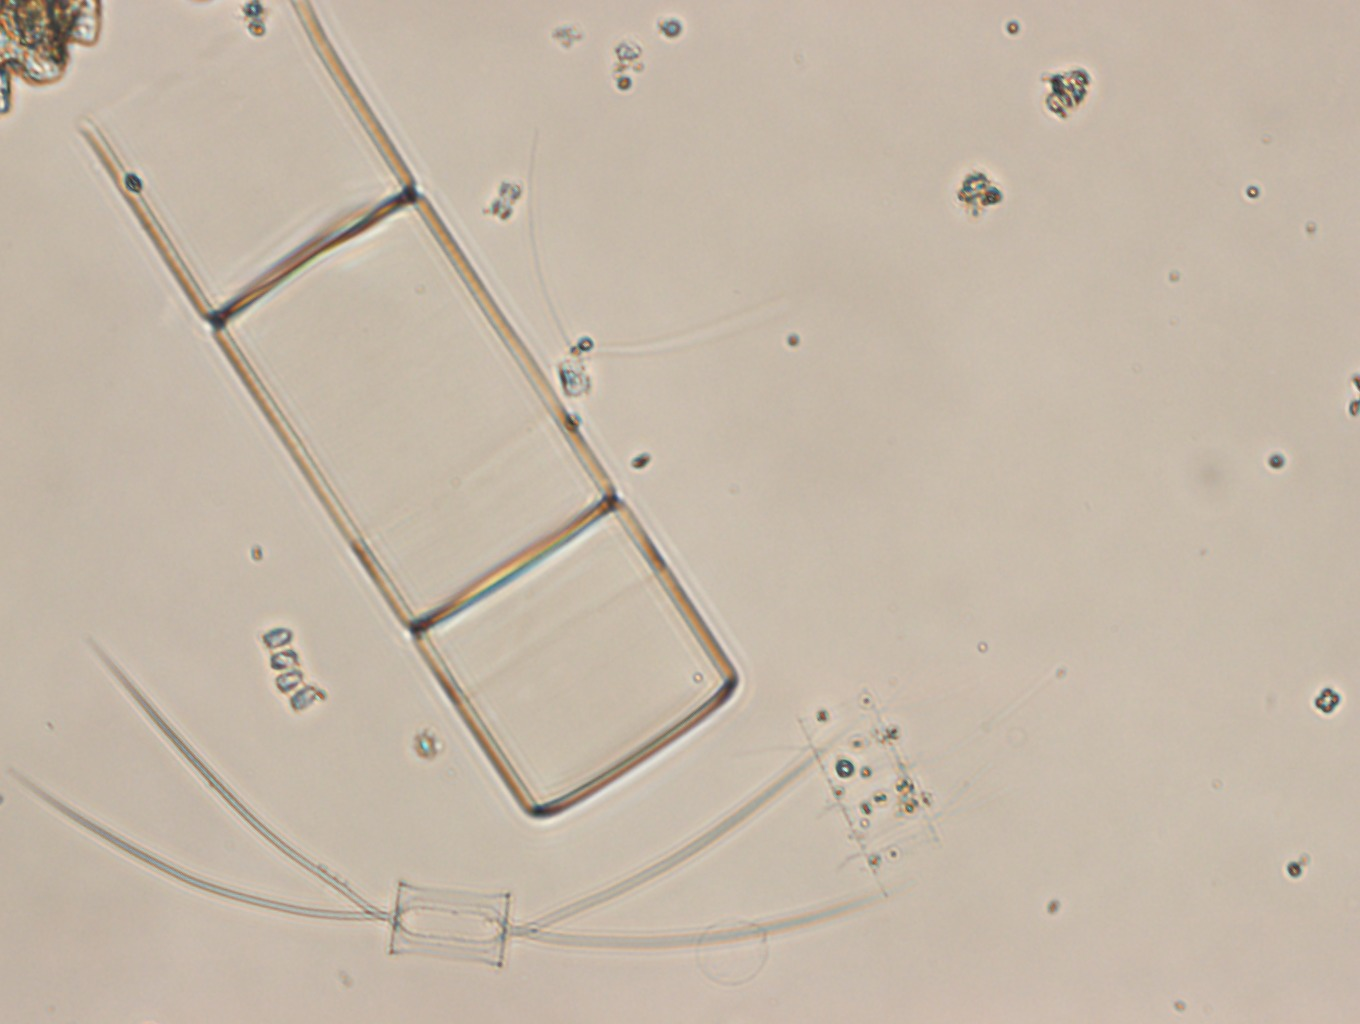chaetoceros: (8, 631, 886, 972), (529, 130, 819, 406), (754, 678, 1018, 885)
guinardia flaccida: (76, 1, 743, 820)
skeletonema: (260, 624, 323, 717)
